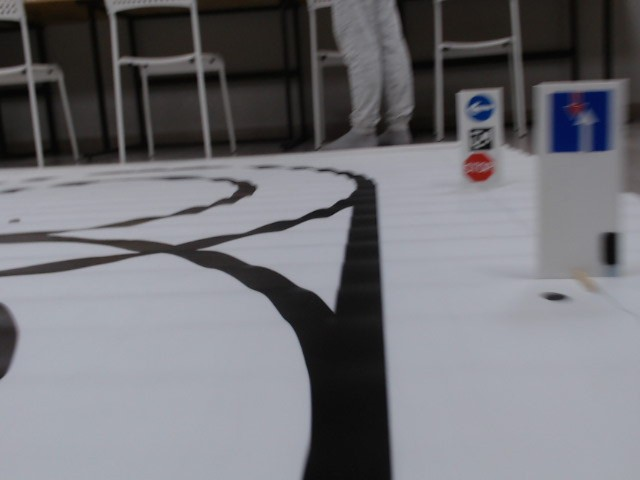Stop: (465, 152, 493, 183)
priority_movement: (548, 90, 616, 158)
